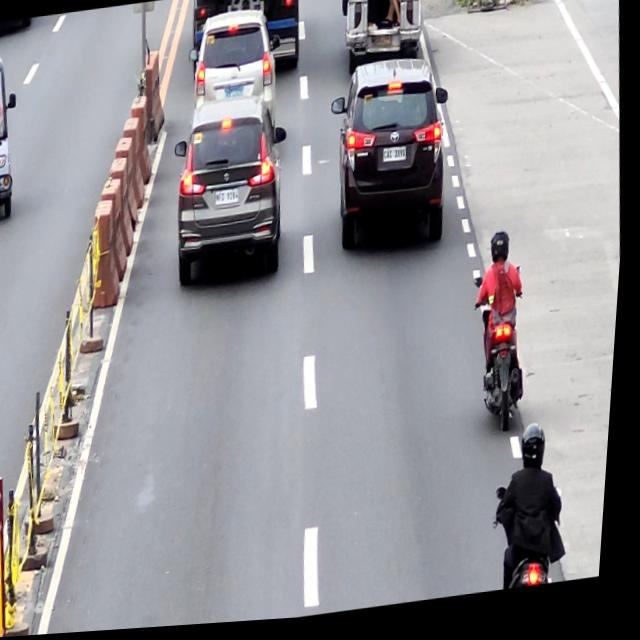Car: (320, 58, 462, 262), (166, 88, 300, 292), (183, 8, 288, 122)
Jeep: (335, 0, 428, 83)
License-Plate: (385, 149, 411, 169), (216, 191, 242, 209), (373, 37, 393, 55), (225, 89, 246, 102)
Motorcycle: (470, 270, 539, 445), (498, 481, 576, 598)
